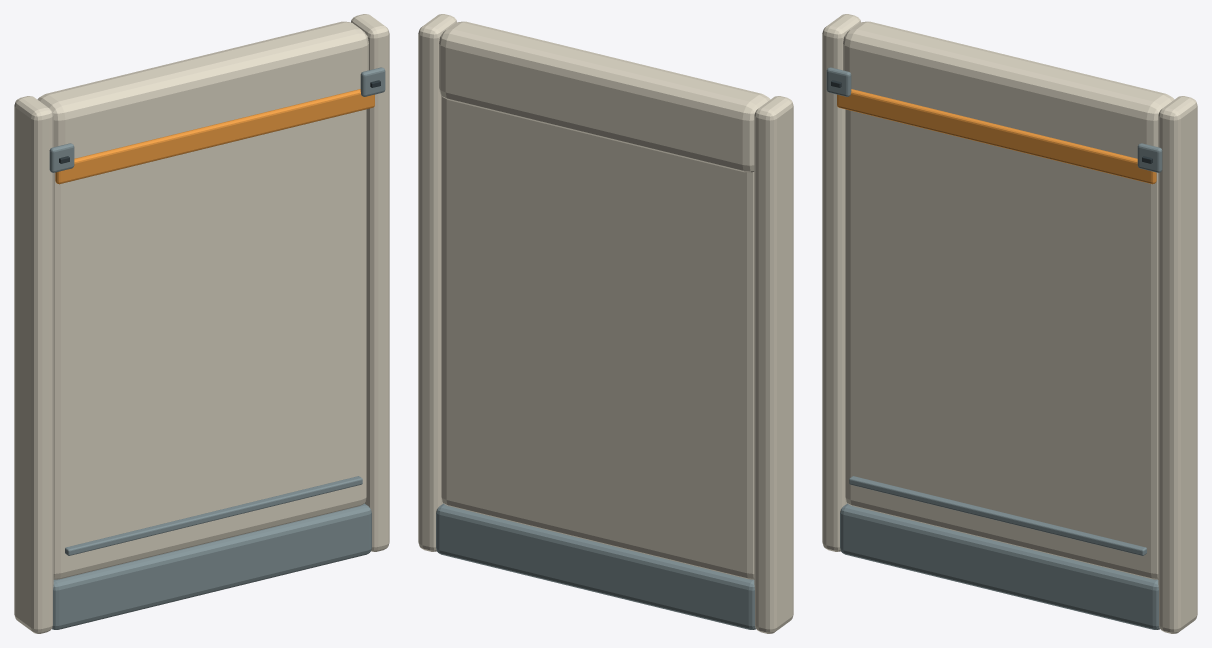
File: wall-2m.glb
3 renders of one model, left to right at view 1: azimuth 30°, elevation 25°; view 2: azimuth 150°, elevation 25°; view 3: azimuth 330°, elevation 25°, orthographic.
Parts seen in each view (by area): view 1: wall-2m__ivory, wall-2m__steel, wall-2m__orange; view 2: wall-2m__ivory, wall-2m__steel; view 3: wall-2m__ivory, wall-2m__steel, wall-2m__orange.
Part boxes in pixels (left/top/right/bottom): wall-2m__ivory: left=14, top=14, right=389, bottom=633; wall-2m__steel: left=49, top=67, right=385, bottom=629; wall-2m__orange: left=55, top=89, right=374, bottom=184; wall-2m__ivory: left=418, top=14, right=793, bottom=633; wall-2m__steel: left=436, top=503, right=755, bottom=629; wall-2m__ivory: left=822, top=14, right=1197, bottom=633; wall-2m__steel: left=826, top=67, right=1162, bottom=629; wall-2m__orange: left=837, top=89, right=1156, bottom=184.
Size of the model in its own units: 2 by 2.8 by 0.3.
